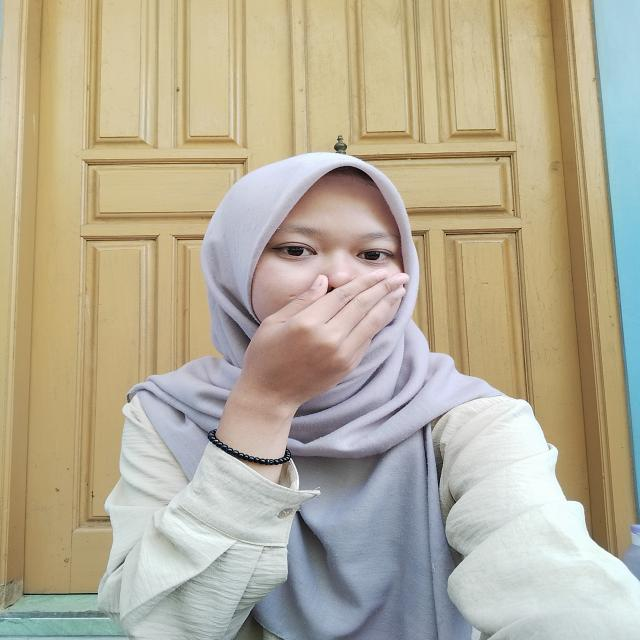bau: (229, 259, 417, 433)
